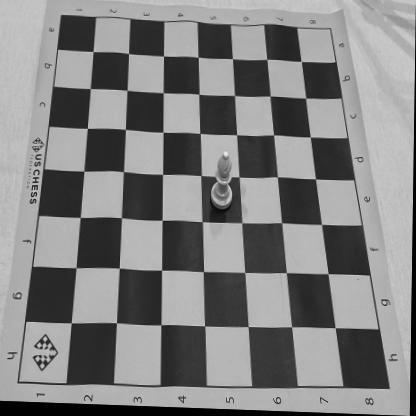white-bishop: (210, 152, 235, 213)
